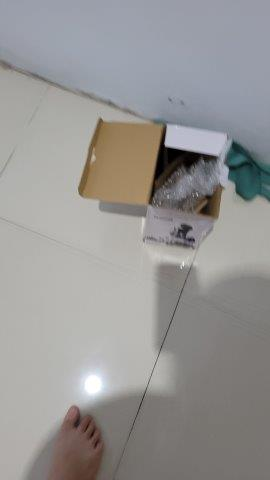kardus: (79, 119, 226, 248)
